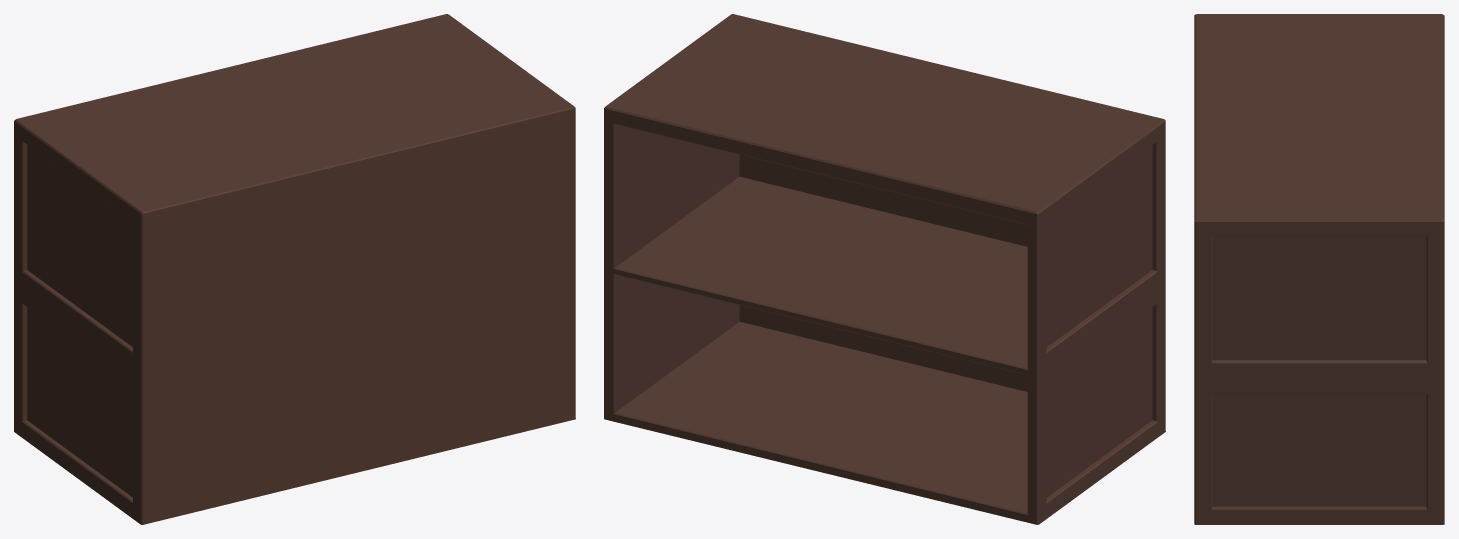
File: SM_FileCabinetWide_001.fbx
3 views of the same model, side by side, from view 1: azimuth 30°, elevation 25°; view 2: azimuth 150°, elevation 25°; view 3: azimuth 270°, elevation 25° (orthographic). The views are drawn at different scales.
Parts seen in each view (by area): view 1: pCube113; view 2: pCube113; view 3: pCube113.
Boxes of the visible parts, bbox=[...] form: pCube113: bbox=[14, 14, 575, 524]; pCube113: bbox=[604, 14, 1165, 524]; pCube113: bbox=[1194, 14, 1444, 524].
Bounding box in the file's own units: 137 × 94.03 × 70.
